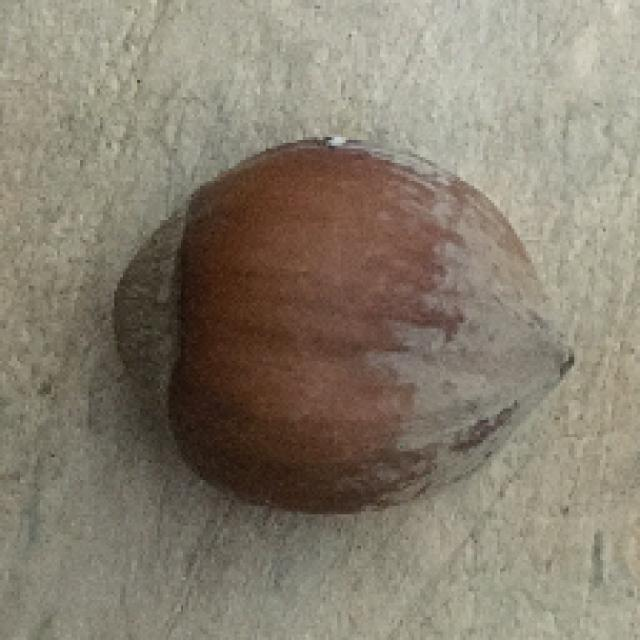qualityHazelnut: (93, 126, 592, 524)
